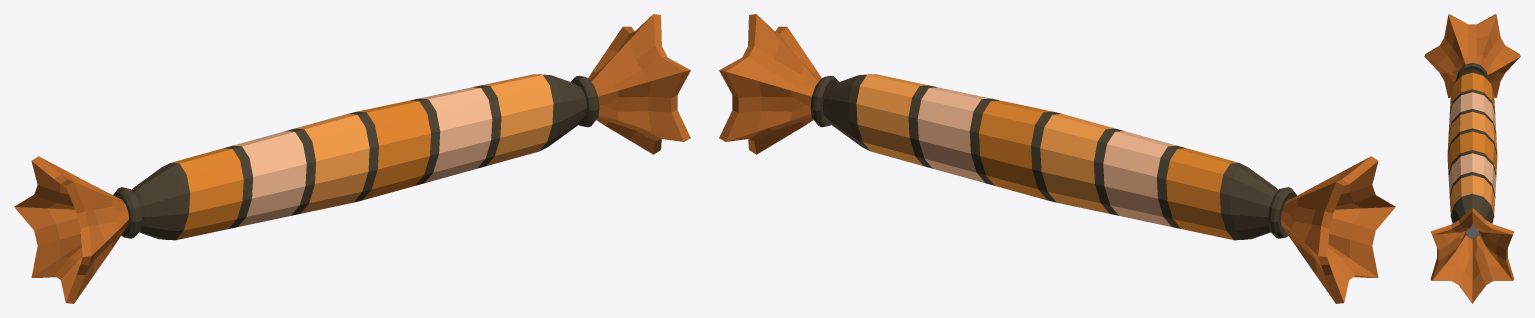
Rendered from WF_LP_HT_Props_Candy.006.fbx.
3 views of the same model, side by side, from view 1: azimuth 30°, elevation 25°; view 2: azimuth 150°, elevation 25°; view 3: azimuth 270°, elevation 25° (orthographic). The views are drawn at different scales.
Visible parts, largest first — view 1: WF_LP_HT_Props_Candy.006; view 2: WF_LP_HT_Props_Candy.006; view 3: WF_LP_HT_Props_Candy.006.
Boxes of the visible parts, <box> form: WF_LP_HT_Props_Candy.006: <box>14,14,690,303</box>; WF_LP_HT_Props_Candy.006: <box>719,14,1395,303</box>; WF_LP_HT_Props_Candy.006: <box>1424,14,1520,303</box>.
Size of the model in its own units: 0.2242 by 0.0492 by 0.0449.
